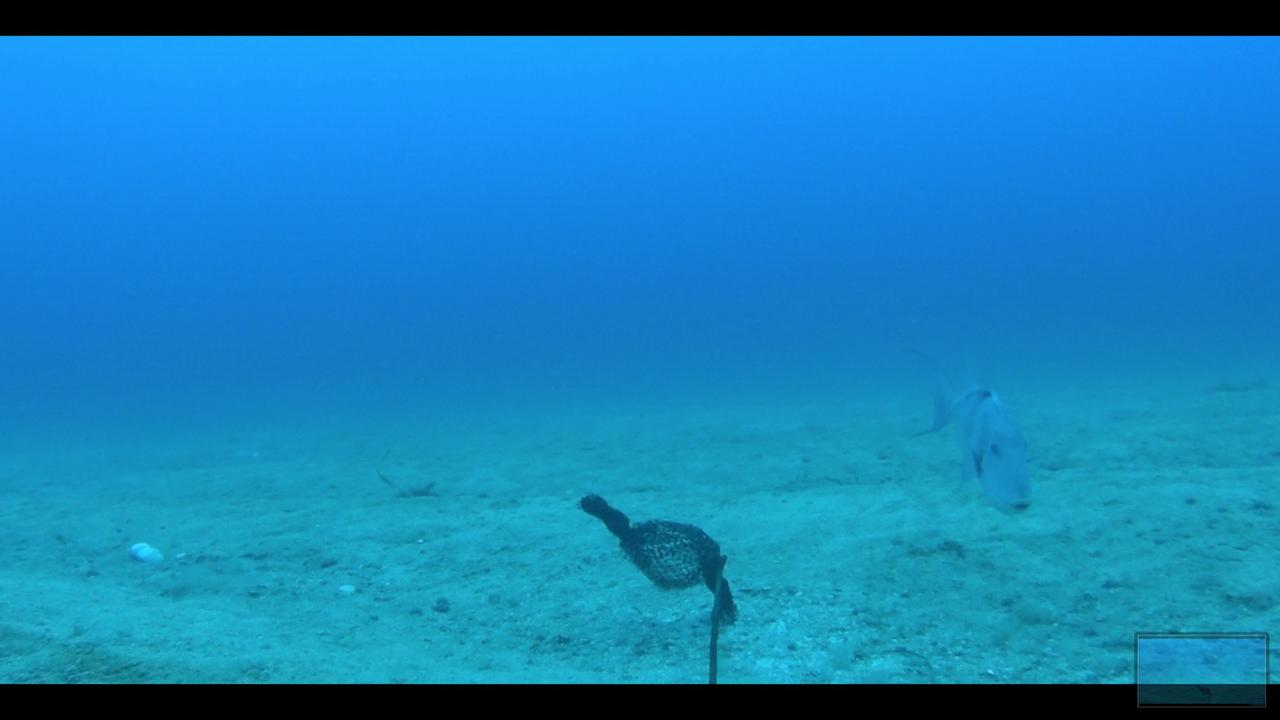balistes: (899, 344, 1038, 517)
